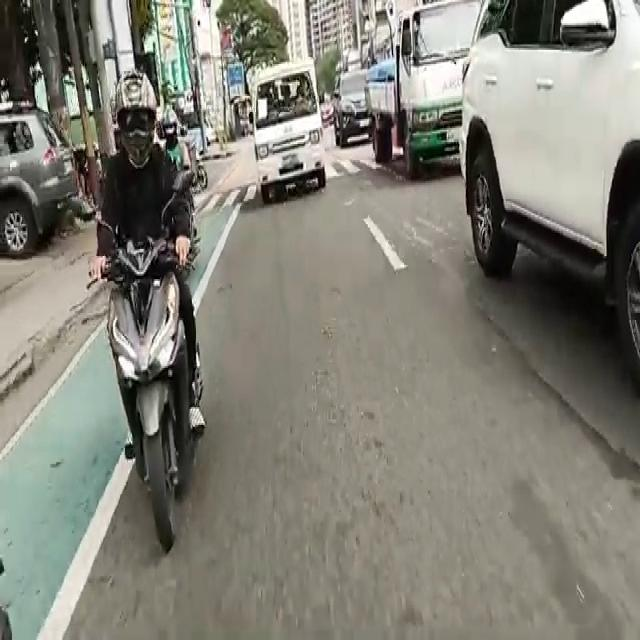car: (461, 5, 640, 360), (256, 72, 333, 205), (337, 76, 365, 144)
motorcycle: (88, 105, 214, 549)
truck: (357, 8, 472, 180)
